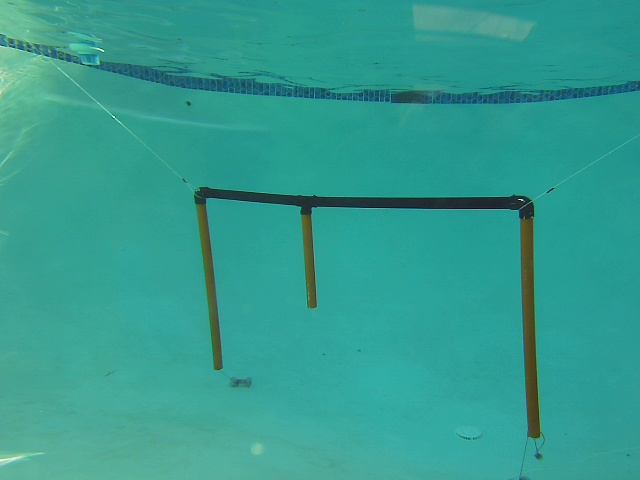Gate: (515, 209, 545, 442), (190, 196, 228, 372), (299, 205, 320, 308)
